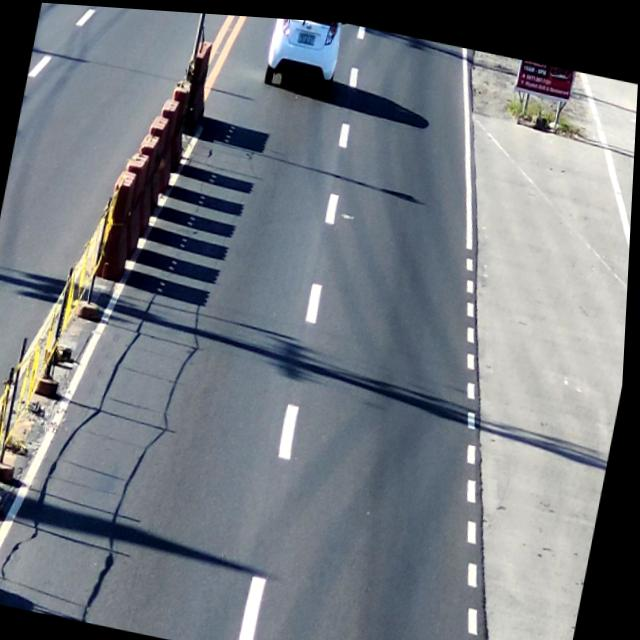Car: (258, 14, 347, 95)
License-Plate: (295, 24, 318, 47)
